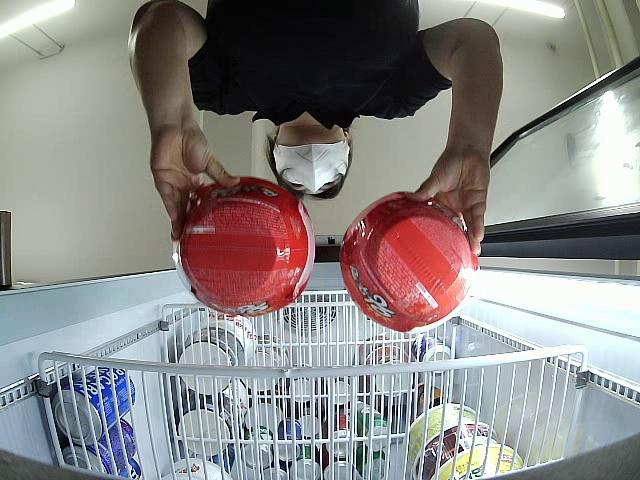00_hand: (150, 123, 242, 242), (407, 148, 490, 261)
10_wangTtukkeong: (173, 175, 317, 316), (340, 192, 473, 333)
